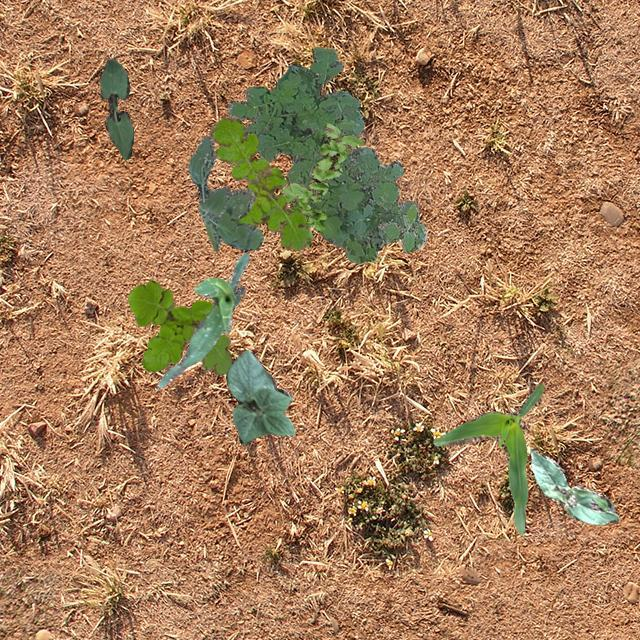crop: (432, 384, 542, 534), (156, 252, 248, 386), (224, 348, 294, 444), (530, 449, 618, 524), (99, 58, 132, 160)
weed: (225, 46, 426, 262), (208, 116, 308, 250), (281, 121, 364, 246), (127, 280, 230, 374), (186, 136, 262, 250), (376, 204, 424, 252)
